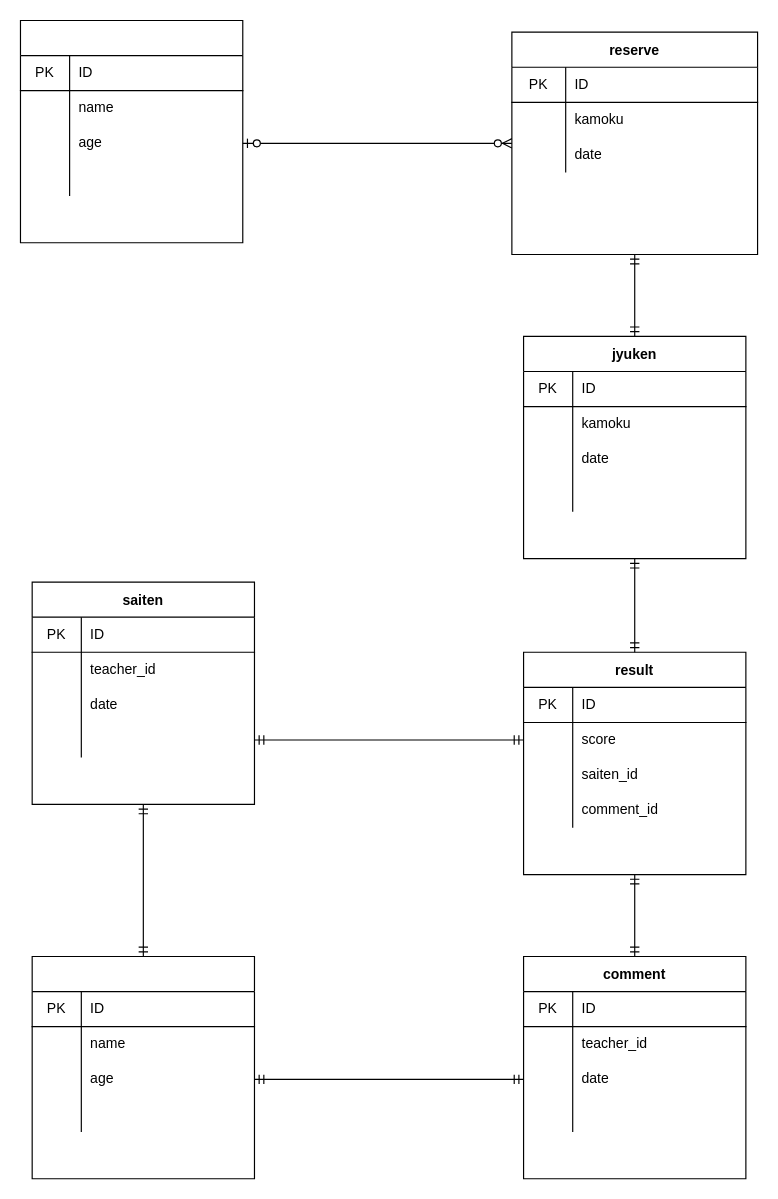
Some shapes in this 778 by 1199 pixel diagram are drawn without their labels. The shapes that lost their labels are listed below. From the top down, each one's box as (x1, y1, x2, y2) in pixels, then its label:
(19, 19, 243, 243): student
(31, 955, 254, 1179): teacher
